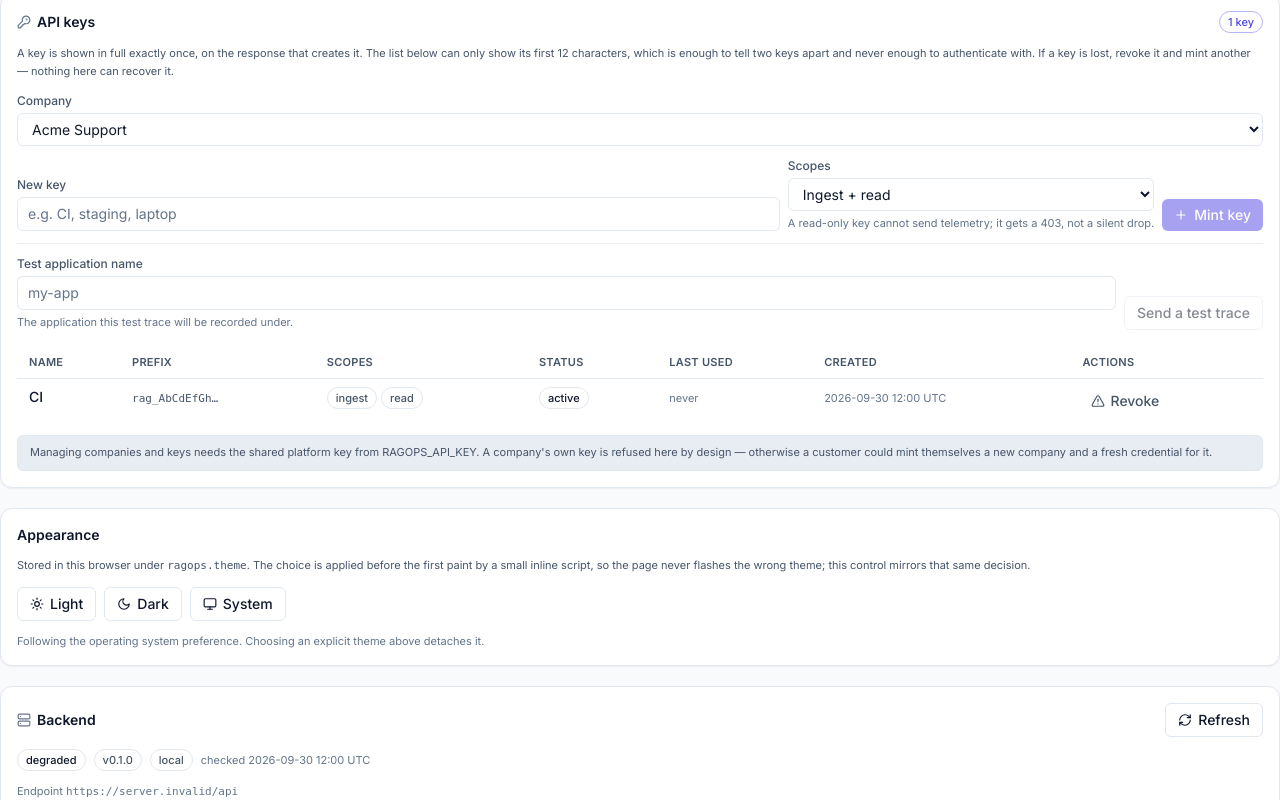
Test: SettingsPage: API keys › reports a failed revoke with the backend's own message
This screenshot has width=1280, height=800.
(page scrolled)
Check: the table named "API keys" is shown, box [17,346,1263,423]
Click the button "Revoke" at (1125, 401), box [1082,387,1167,415]
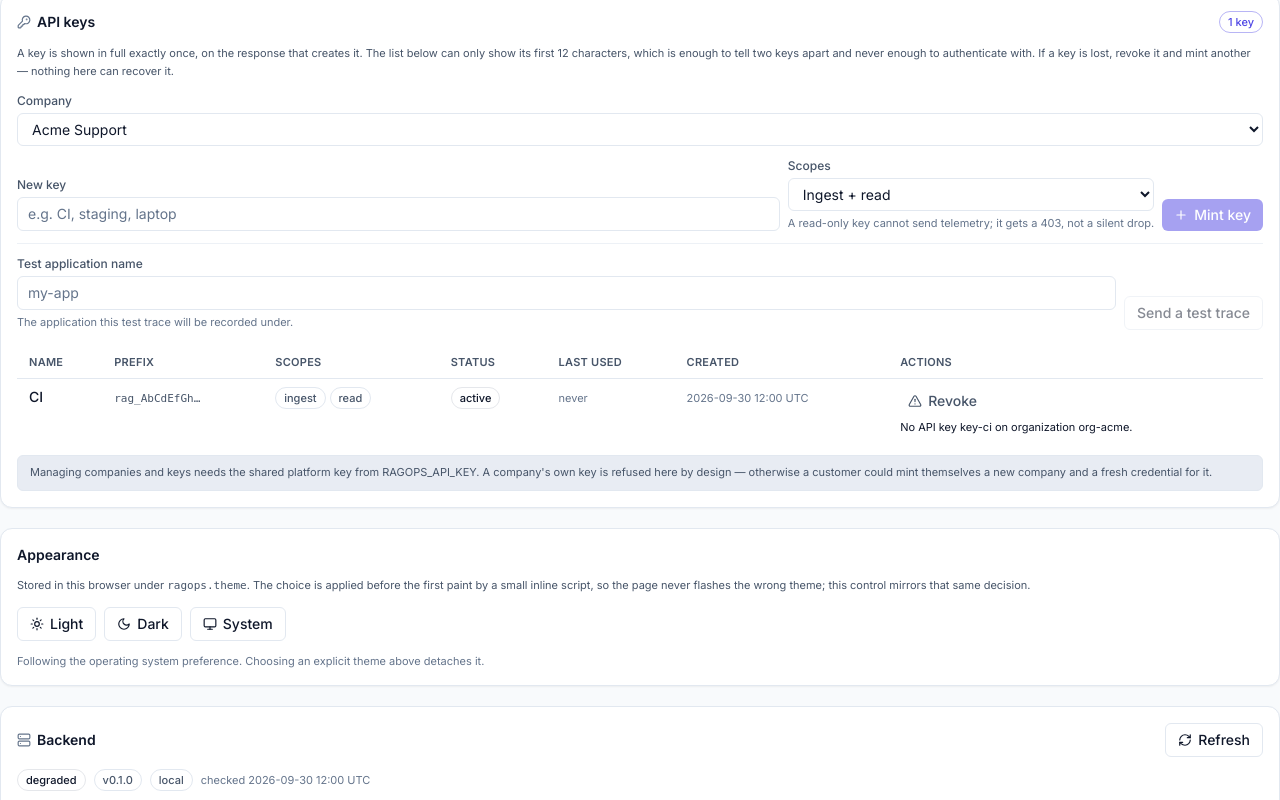
Check: the button "Revoke" is shown, box [900,387,985,415]
Check: the text "No API key key-ci on organization org-acme." is shown, box [900,419,1132,435]
